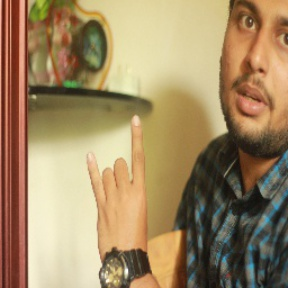V: (81, 114, 153, 256)
